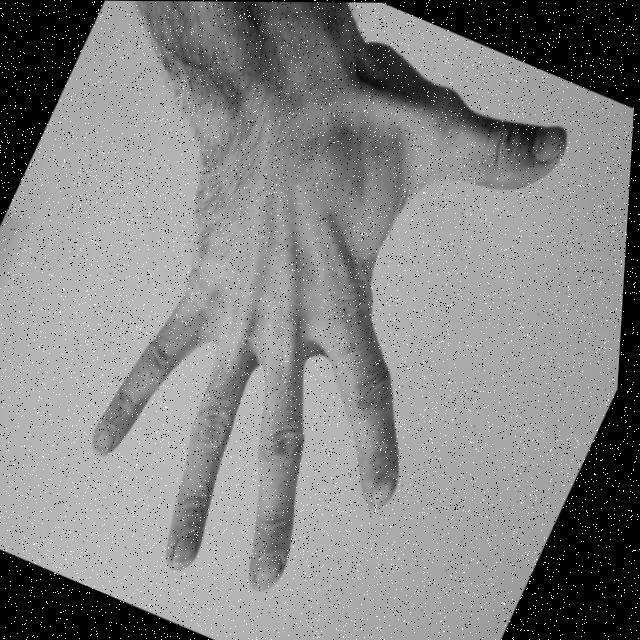no-gloves: (52, 5, 584, 640)
